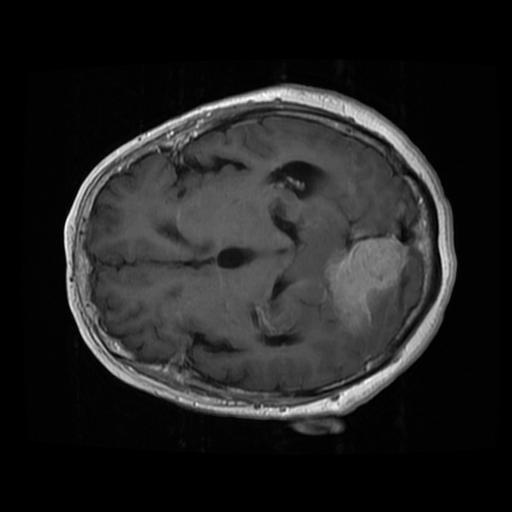meningioma: (324, 235, 405, 332)
